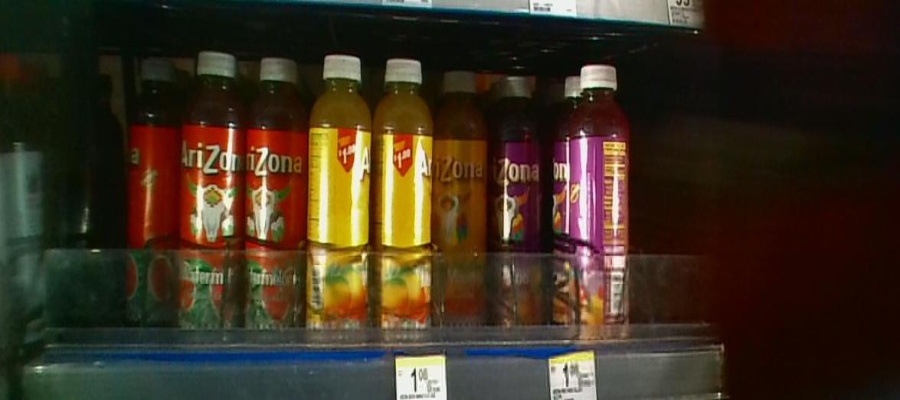bottle: (562, 52, 632, 334), (179, 42, 241, 357), (309, 49, 372, 352), (242, 49, 305, 350), (372, 49, 434, 339), (489, 59, 545, 338), (129, 49, 177, 338), (437, 63, 486, 339)
